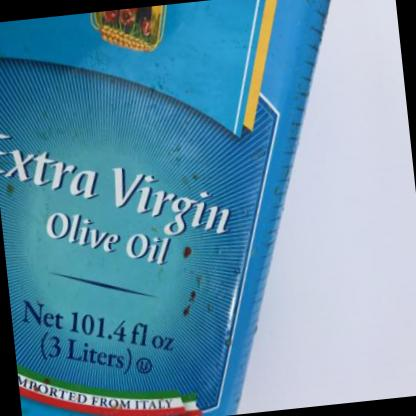Metal: (0, 0, 328, 416)
